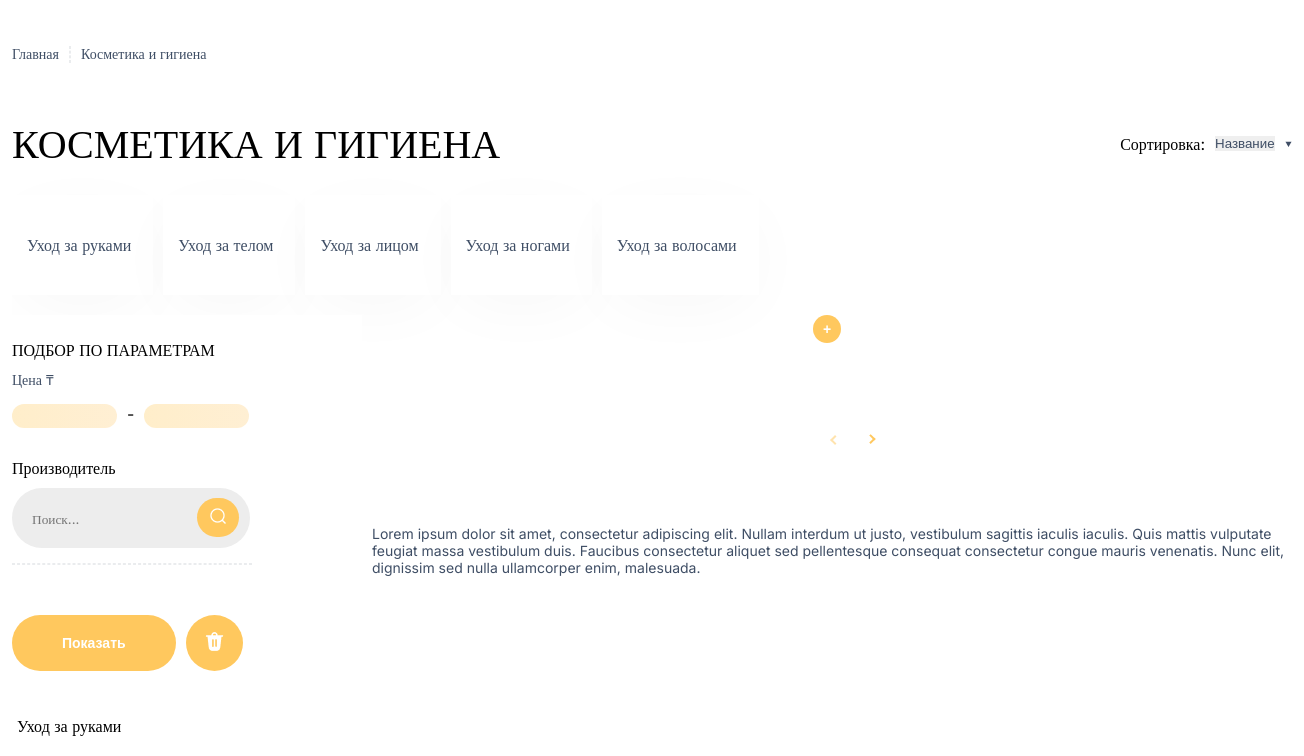
Scenario: testing components › add button should not to be in the document after clicking
The image size is (1304, 756).
Click the button with test id "show-add-field-btn": (827, 329) [813, 315, 841, 343]
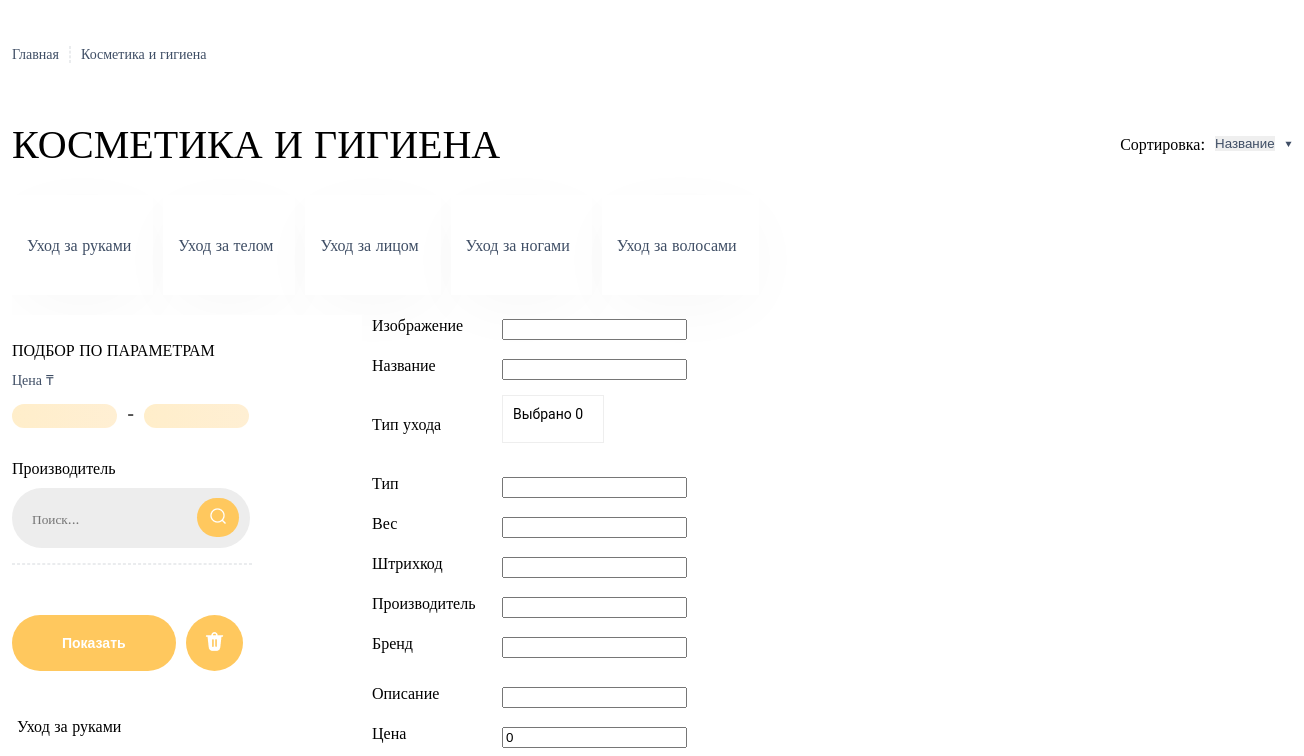
Expected: the button with test id "show-add-field-btn" is gone
